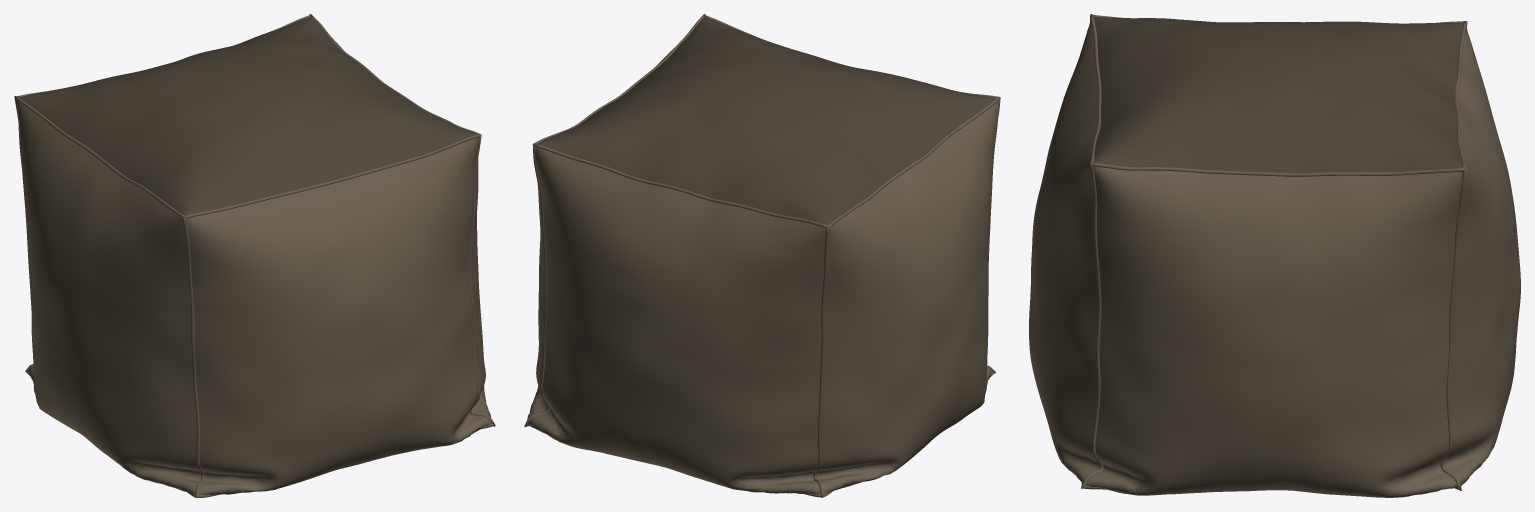
Rendered from pouf.gltf.
The picture shows the model from 3 angles, left to right: view 1: azimuth 30°, elevation 25°; view 2: azimuth 150°, elevation 25°; view 3: azimuth 270°, elevation 25°; orthographic projection. The views are drawn at different scales.
Parts seen in each view (by area): view 1: Leather_pouf_Mesh; view 2: Leather_pouf_Mesh; view 3: Leather_pouf_Mesh.
Part boxes in pixels (<box>): Leather_pouf_Mesh: <box>14,14,495,497</box>; Leather_pouf_Mesh: <box>524,14,1000,497</box>; Leather_pouf_Mesh: <box>1029,14,1520,497</box>.
Size of the model in its own units: 2.63 by 2.09 by 2.63.
